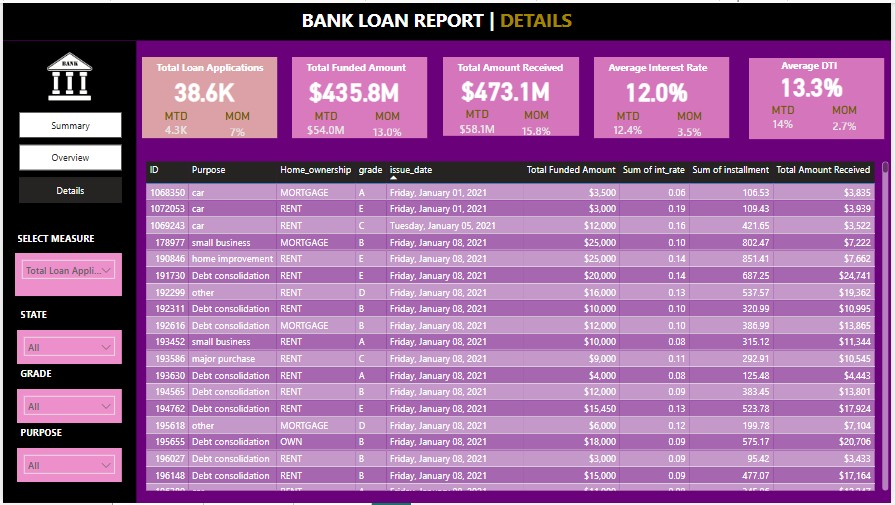

The page's visual inventory and layout, read from the dashboard file:
{"tool":"powerbi","page":{"name":"Details","canvas":[1280,720],"ordinal":2},"visuals":[{"type":"shape","box":[0,54.2,192,665.4],"z":0},{"type":"shape","box":[0,0,1280,54.2],"z":1000},{"type":"textbox","box":[425,0,457.1,54.2],"z":2000},{"type":"shape","box":[633.6,77.8,196.4,113.5],"z":3000,"group":"g3"},{"type":"group","id":"g1","title":"Group 1","box":[199.8,77.9,194.7,120.2],"z":3000},{"type":"shape","box":[199.8,77.9,194.7,116.8],"z":3000,"group":"g1"},{"type":"shape","box":[416.5,77.9,194.7,116.8],"z":3000,"group":"g2"},{"type":"shape","box":[851.6,77.9,194.7,116.8],"z":3000,"group":"g4"},{"type":"group","id":"g2","title":"Group 1","box":[416.5,77.9,194.7,120.2],"z":4000},{"type":"shape","box":[1074.2,78.7,194.7,116.8],"z":4000,"group":"g5"},{"type":"card","fields":{"Values":["financial_loan.Total Amount Received"]},"box":[649,99.2,148.6,51],"z":4000,"group":"g3"},{"type":"card","fields":{"Values":["financial_loan.Total Loan Applications"]},"box":[215,99.9,147.3,52.5],"z":4000,"group":"g1"},{"type":"card","fields":{"Values":["financial_loan.Total Funded Amount"]},"box":[431.7,99.9,147.3,52.5],"z":4000,"group":"g2"},{"type":"card","fields":{"Values":["financial_loan.Avg Intererst Rate"]},"box":[866.8,99.9,147.3,52.5],"z":4000,"group":"g4"},{"type":"group","id":"g3","title":"Group 1","box":[633.6,77.8,196.4,116.8],"z":5000},{"type":"textbox","box":[649,77.8,181,41.1],"z":5000,"group":"g3"},{"type":"textbox","box":[215,77.9,179.5,42.3],"z":5000,"group":"g1"},{"type":"textbox","box":[431.7,77.9,179.5,42.3],"z":5000,"group":"g2"},{"type":"textbox","box":[866.8,77.9,179.5,42.3],"z":5000,"group":"g4"},{"type":"group","id":"g4","title":"Group 1","box":[851.6,77.9,194.7,120.2],"z":6000},{"type":"card","fields":{"Values":["financial_loan.AVG DTI"]},"box":[1089.4,92.2,147.3,52.5],"z":6000,"group":"g5"},{"type":"card","title":"MTD","fields":{"Values":["financial_loan.MTD Total Amount Received"]},"box":[649,150.2,66.6,44.4],"z":6000,"group":"g3"},{"type":"card","title":"MTD","fields":{"Values":["financial_loan.MTD Loan Applications"]},"box":[215,152.4,66,45.7],"z":6000,"group":"g1"},{"type":"card","title":"MTD","fields":{"Values":["financial_loan.MTD Funded Amount"]},"box":[431.7,152.4,66,45.7],"z":6000,"group":"g2"},{"type":"card","title":"MTD","fields":{"Values":["financial_loan.MTD Avg Int Rate"]},"box":[866.8,152.4,66,45.7],"z":6000,"group":"g4"},{"type":"group","id":"g5","title":"Group 2","box":[1074.2,74.9,194.4,119.5],"z":7000},{"type":"card","title":"MOM","fields":{"Values":["financial_loan.MOM Total Amount Received"]},"box":[720.6,151.6,96.5,41.8],"z":7000,"group":"g3"},{"type":"card","title":"MOM","fields":{"Values":["financial_loan.MOM Loan Application"]},"box":[289.5,152.4,96.5,42.3],"z":7000,"group":"g1"},{"type":"card","title":"MOM","fields":{"Values":["financial_loan.MOM Total Funded Amount"]},"box":[506.2,152.4,96.5,42.3],"z":7000,"group":"g2"},{"type":"card","title":"MOM","fields":{"Values":["financial_loan.MOM Avg Interest Rate"]},"box":[941.3,152.4,96.5,42.3],"z":7000,"group":"g4"},{"type":"textbox","box":[1088.8,74.9,179.5,44],"z":8000,"group":"g5"},{"type":"slicer","fields":{"Values":["financial_loan.address_state"]},"box":[20.2,470.9,151.2,49],"z":8000},{"type":"textbox","box":[20.2,434.9,69.1,34.6],"z":9000},{"type":"card","title":"MTD","fields":{"Values":["financial_loan.MTD Avg DTI"]},"box":[1089.4,144.7,66,45.7],"z":10000,"group":"g5"},{"type":"slicer","fields":{"Values":["financial_loan.grade"]},"box":[20.2,555.8,151.2,49],"z":10000},{"type":"card","title":"MOM","fields":{"Values":["financial_loan.MOM Avg DTI"]},"box":[1163.9,144.7,96.5,42.3],"z":11000,"group":"g5"},{"type":"slicer","fields":{"Values":["financial_loan.purpose"]},"box":[20.2,640.8,151.2,49],"z":11000},{"type":"textbox","box":[20.2,604.8,90.7,36],"z":12000},{"type":"textbox","box":[20.2,519.8,69.1,46.1],"z":13000},{"type":"slicer","fields":{"Values":["Select Measure.Select Measure"]},"box":[17.3,360,154.1,61.9],"z":14000},{"type":"tableEx","fields":{"Values":["financial_loan.id","financial_loan.purpose","financial_loan.home_ownership","financial_loan.grade","financial_loan.issue_date","financial_loan.Total Funded Amount","Sum(financial_loan.int_rate)","Sum(financial_loan.installment)","financial_loan.Total Amount Received"]},"box":[200.2,223.2,1080,483.8],"z":15000},{"type":"textbox","box":[15.8,325.4,155.5,47.5],"z":16000},{"type":"pageNavigator","box":[23,157,148.3,132.5],"z":17000},{"type":"image","box":[0,54.7,191.5,102.2],"z":18000}]}

Visuals, with their boxes in screenshot pixels (x1, y1, x2, y2), scaled from the page's 1280x720 canvas onto the 895x505 screenshot:
shape: pyautogui.locateOnScreen(0, 38, 134, 504)
shape: pyautogui.locateOnScreen(0, 0, 894, 38)
textbox: pyautogui.locateOnScreen(297, 0, 617, 38)
shape: pyautogui.locateOnScreen(443, 55, 580, 134)
"Group 1" group: pyautogui.locateOnScreen(140, 55, 276, 139)
shape: pyautogui.locateOnScreen(140, 55, 276, 137)
shape: pyautogui.locateOnScreen(291, 55, 427, 137)
shape: pyautogui.locateOnScreen(595, 55, 732, 137)
"Group 1" group: pyautogui.locateOnScreen(291, 55, 427, 139)
shape: pyautogui.locateOnScreen(751, 55, 887, 137)
card - financial_loan.Total Amount Received: pyautogui.locateOnScreen(454, 70, 558, 105)
card - financial_loan.Total Loan Applications: pyautogui.locateOnScreen(150, 70, 253, 107)
card - financial_loan.Total Funded Amount: pyautogui.locateOnScreen(302, 70, 405, 107)
card - financial_loan.Avg Intererst Rate: pyautogui.locateOnScreen(606, 70, 709, 107)
"Group 1" group: pyautogui.locateOnScreen(443, 55, 580, 136)
textbox: pyautogui.locateOnScreen(454, 55, 580, 83)
textbox: pyautogui.locateOnScreen(150, 55, 276, 84)
textbox: pyautogui.locateOnScreen(302, 55, 427, 84)
textbox: pyautogui.locateOnScreen(606, 55, 732, 84)
"Group 1" group: pyautogui.locateOnScreen(595, 55, 732, 139)
card - financial_loan.AVG DTI: pyautogui.locateOnScreen(762, 65, 865, 101)
"MTD" card: pyautogui.locateOnScreen(454, 105, 500, 136)
"MTD" card: pyautogui.locateOnScreen(150, 107, 196, 139)
"MTD" card: pyautogui.locateOnScreen(302, 107, 348, 139)
"MTD" card: pyautogui.locateOnScreen(606, 107, 652, 139)
"Group 2" group: pyautogui.locateOnScreen(751, 53, 887, 136)
"MOM" card: pyautogui.locateOnScreen(504, 106, 571, 136)
"MOM" card: pyautogui.locateOnScreen(202, 107, 270, 137)
"MOM" card: pyautogui.locateOnScreen(354, 107, 421, 137)
"MOM" card: pyautogui.locateOnScreen(658, 107, 726, 137)
textbox: pyautogui.locateOnScreen(761, 53, 887, 83)
slicer - financial_loan.address_state: pyautogui.locateOnScreen(14, 330, 120, 365)
textbox: pyautogui.locateOnScreen(14, 305, 62, 329)
"MTD" card: pyautogui.locateOnScreen(762, 101, 808, 134)
slicer - financial_loan.grade: pyautogui.locateOnScreen(14, 390, 120, 424)
"MOM" card: pyautogui.locateOnScreen(814, 101, 881, 131)
slicer - financial_loan.purpose: pyautogui.locateOnScreen(14, 449, 120, 484)
textbox: pyautogui.locateOnScreen(14, 424, 78, 449)
textbox: pyautogui.locateOnScreen(14, 365, 62, 397)
slicer - Select Measure.Select Measure: pyautogui.locateOnScreen(12, 252, 120, 296)
tableEx - financial_loan.id x financial_loan.purpose: pyautogui.locateOnScreen(140, 157, 894, 496)
textbox: pyautogui.locateOnScreen(11, 228, 120, 262)
pageNavigator: pyautogui.locateOnScreen(16, 110, 120, 203)
image: pyautogui.locateOnScreen(0, 38, 134, 110)
